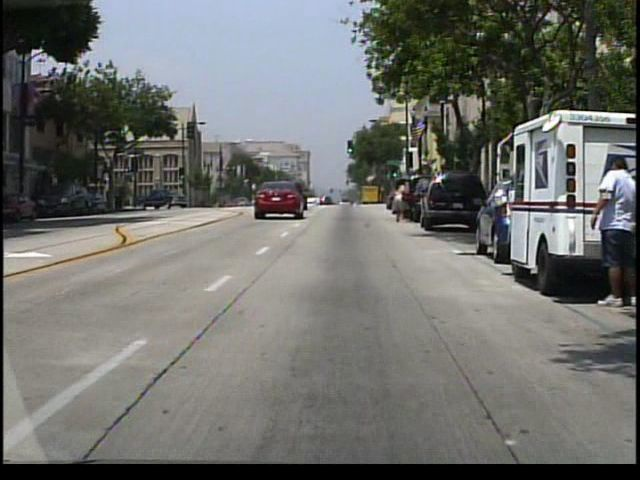person: (587, 159, 635, 309), (389, 177, 411, 224)
